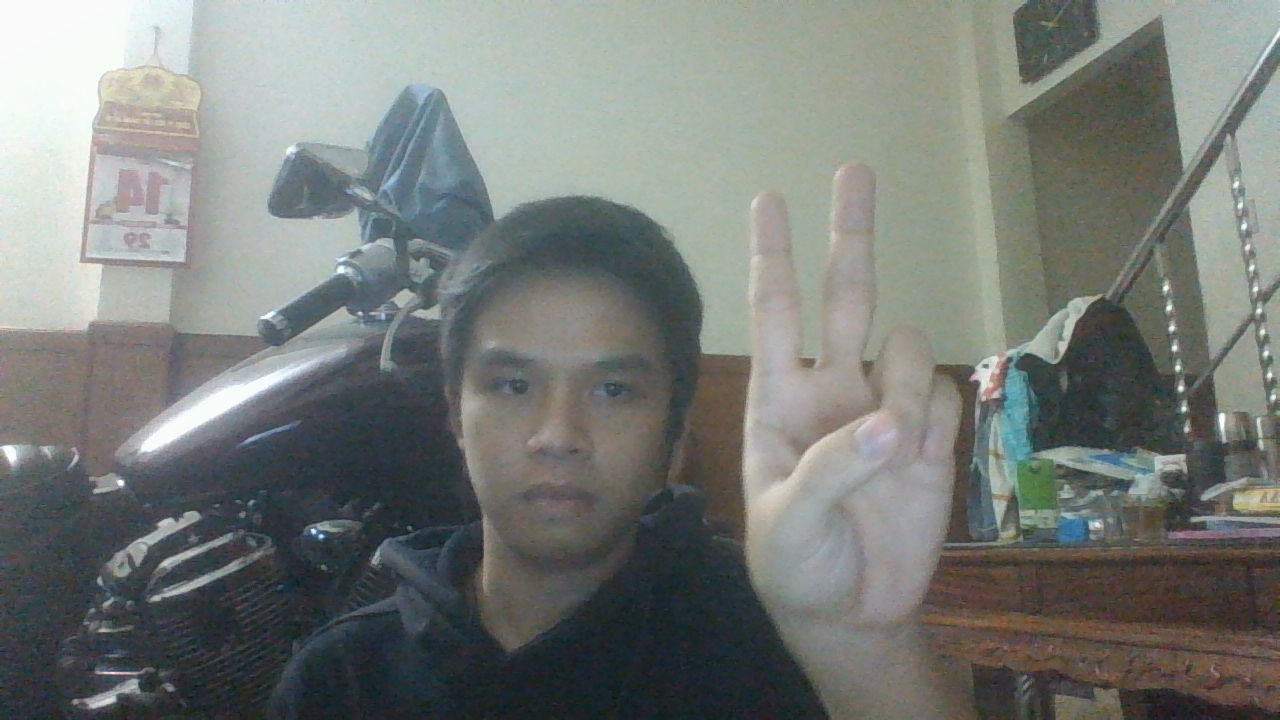wait: (735, 159, 963, 627)
